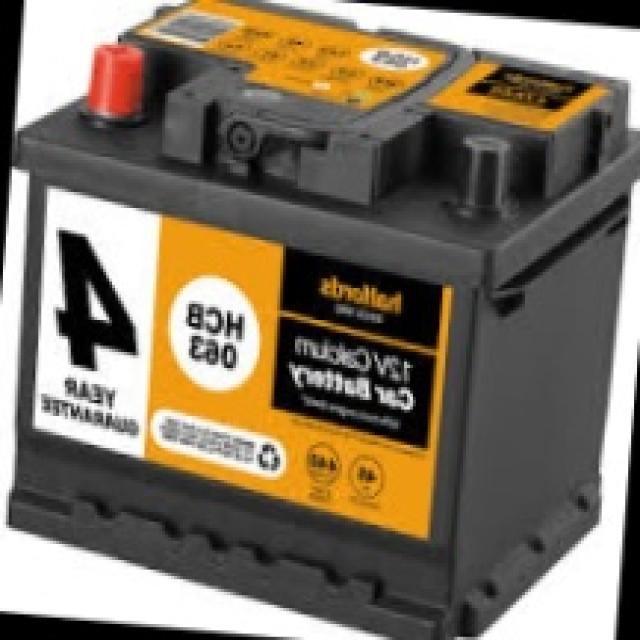elektronik: (14, 96, 628, 632)
